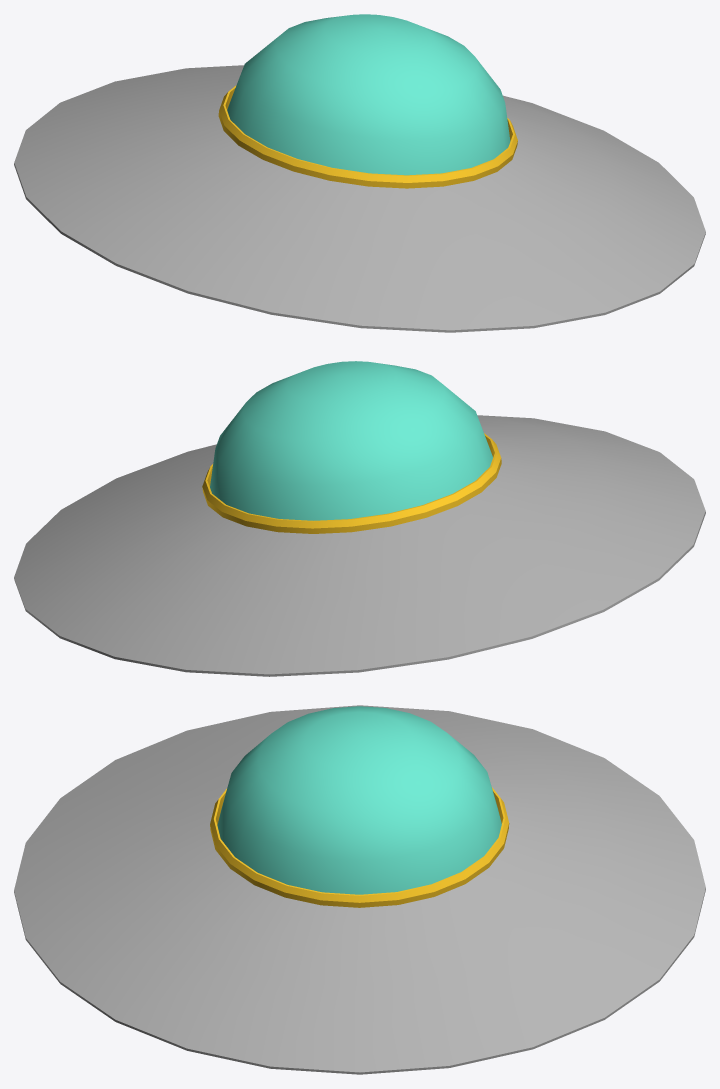
Rendered from 1plateCarNew.fbx.
3 renders of one model, top to bottom at view 1: azimuth 30°, elevation 25°; view 2: azimuth 150°, elevation 25°; view 3: azimuth 270°, elevation 25°, orthographic.
Parts seen in each view (by area): view 1: Circle; view 2: Circle; view 3: Circle.
Boxes of the visible parts, x1,y1,x2,y2 form: Circle: [14, 14, 705, 332]; Circle: [14, 361, 705, 676]; Circle: [14, 705, 705, 1074].
Bounding box in the file's own units: 576 × 213 × 580.
